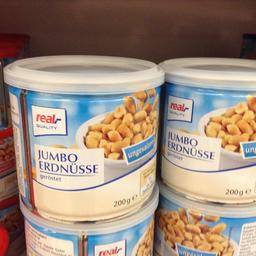nuts: (2, 53, 164, 224), (159, 56, 255, 205)
